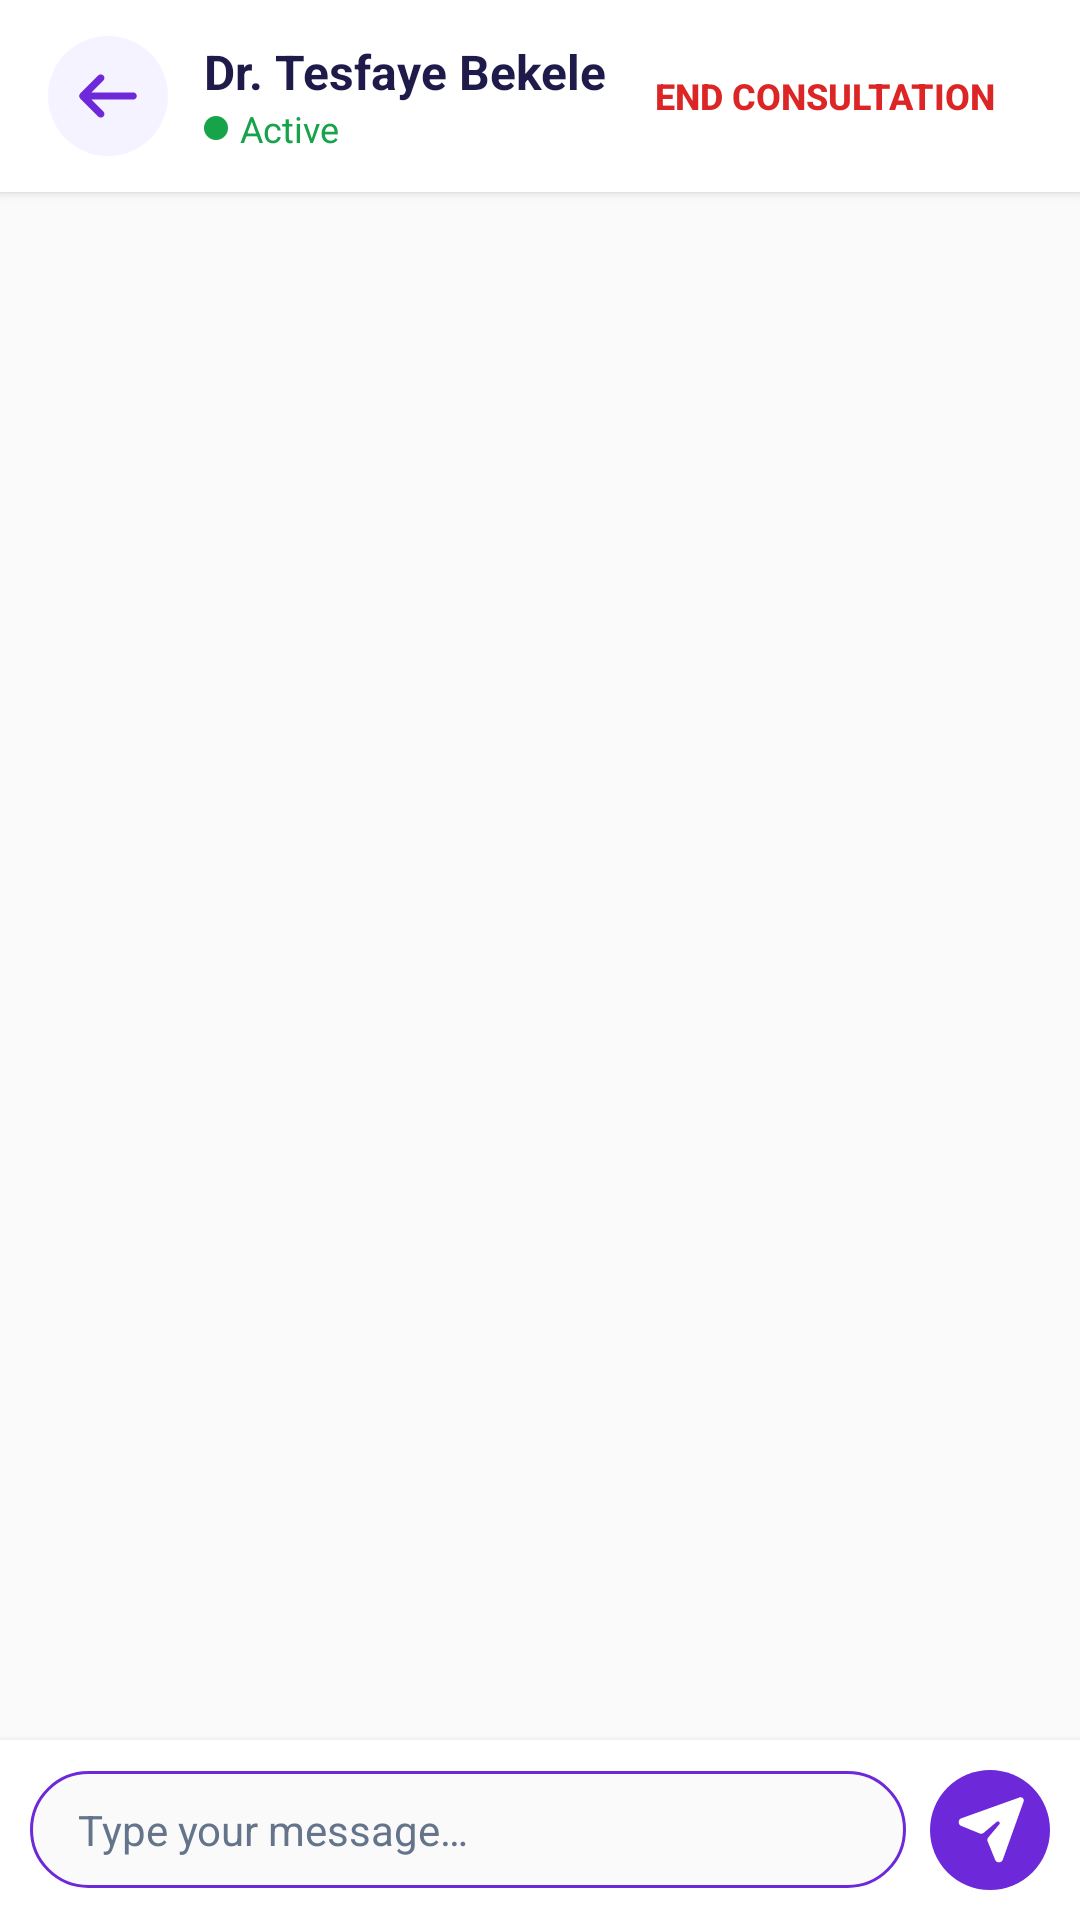

Named icons in this screenshot (1080px x 1920px) and their bounding boxes, box(x1, y1, x2, y2):
Send: box(930, 1770, 1050, 1890)
